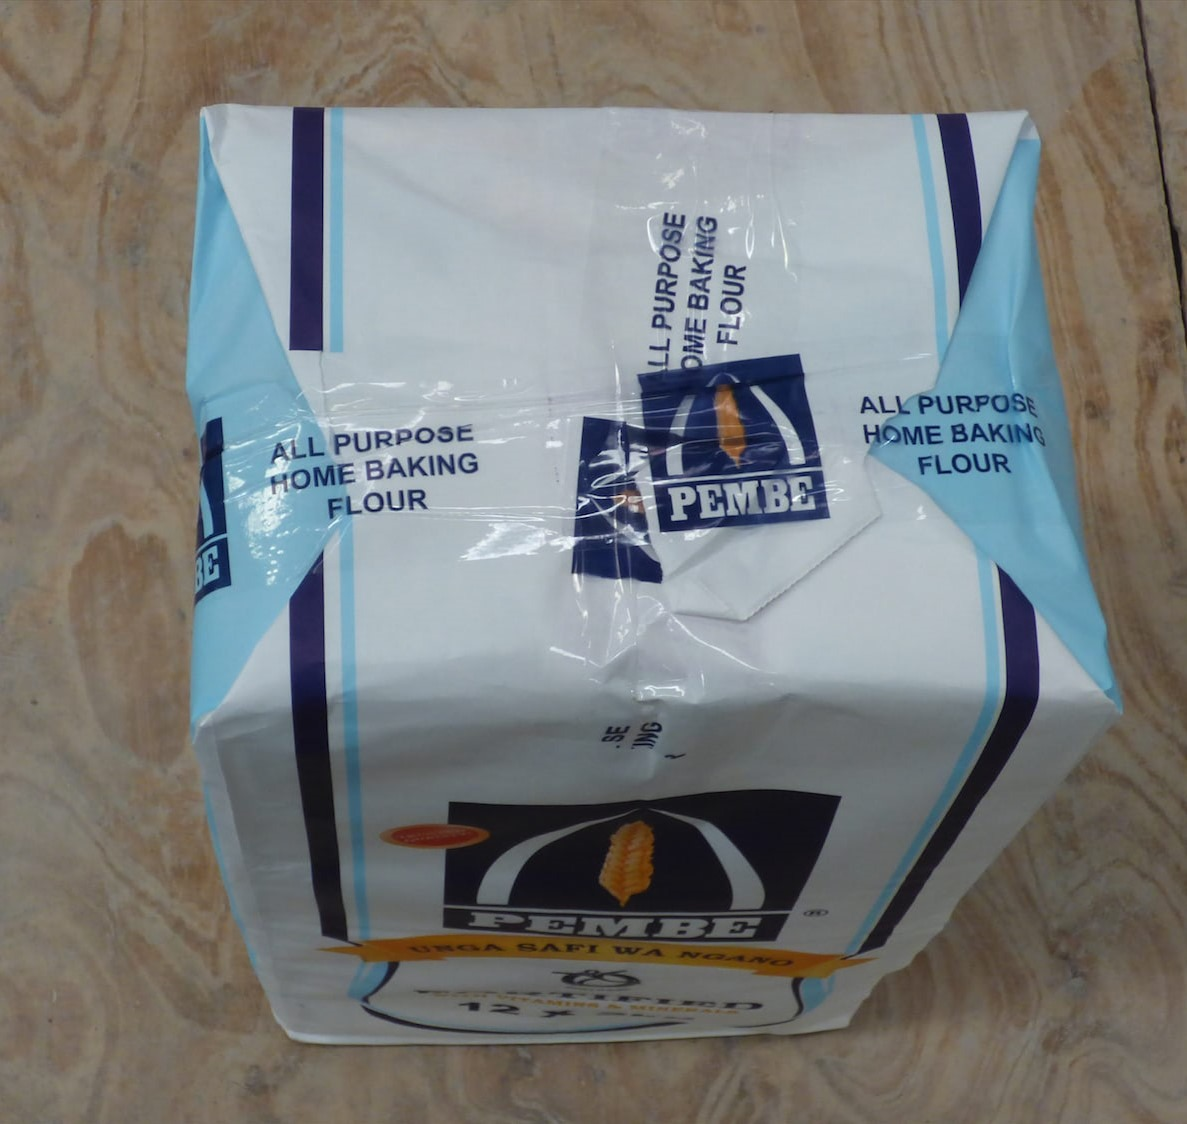wheat_flour_blue_label: (207, 110, 1122, 1036)
